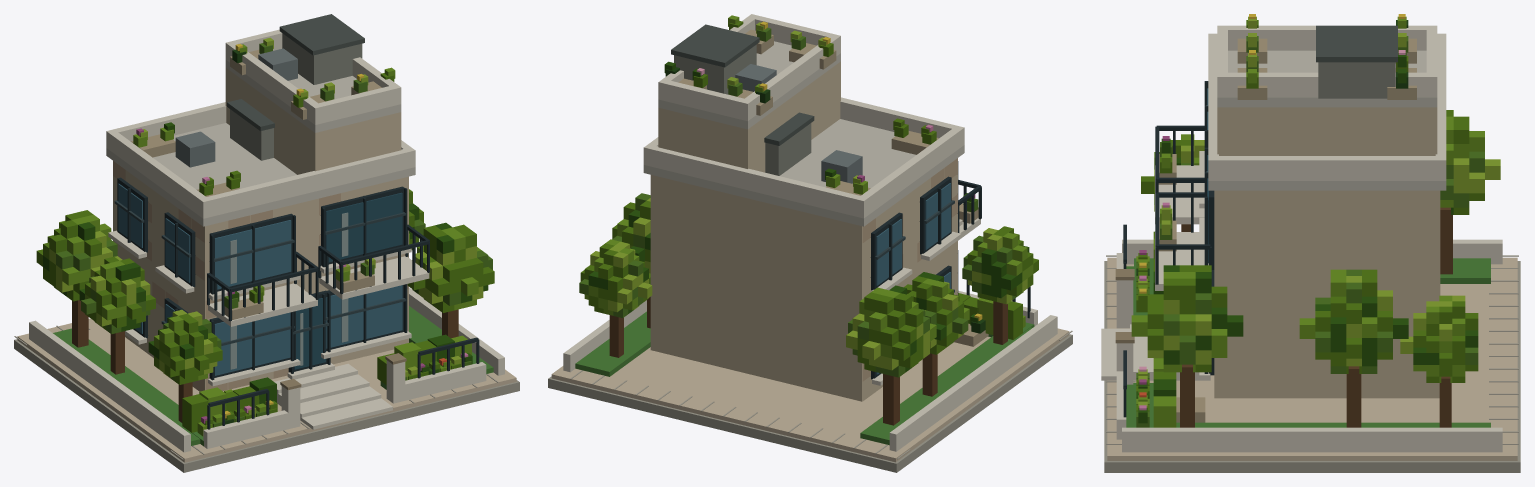
Rendered from SM_Mapa_017.fbx.
3 renders of one model, left to right at view 1: azimuth 30°, elevation 25°; view 2: azimuth 150°, elevation 25°; view 3: azimuth 270°, elevation 25°, orthographic. The views are drawn at different scales.
Visible parts, largest first — view 1: SM_Mapa_017; view 2: SM_Mapa_017; view 3: SM_Mapa_017.
Part boxes in pixels (bbox=[...]): SM_Mapa_017: bbox=[14, 14, 519, 472]; SM_Mapa_017: bbox=[548, 14, 1072, 472]; SM_Mapa_017: bbox=[1101, 14, 1520, 472].
Bounding box in the file's own units: 8 × 6.96 × 6.87.
